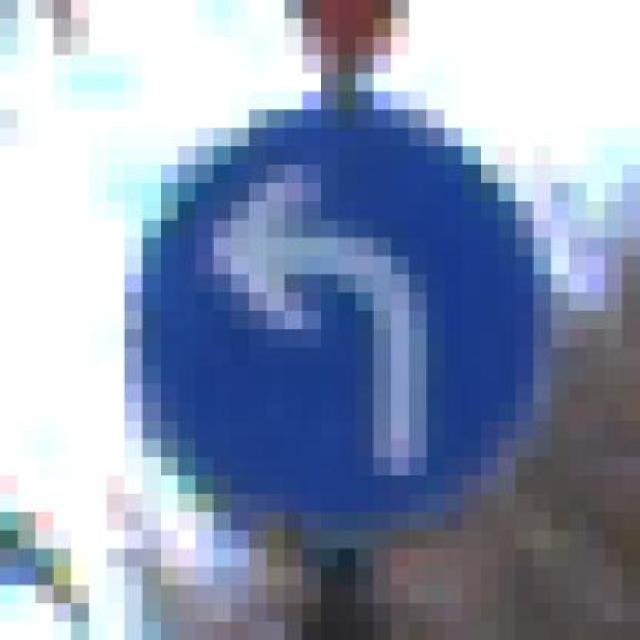Turn left ahead: (117, 95, 545, 533)
